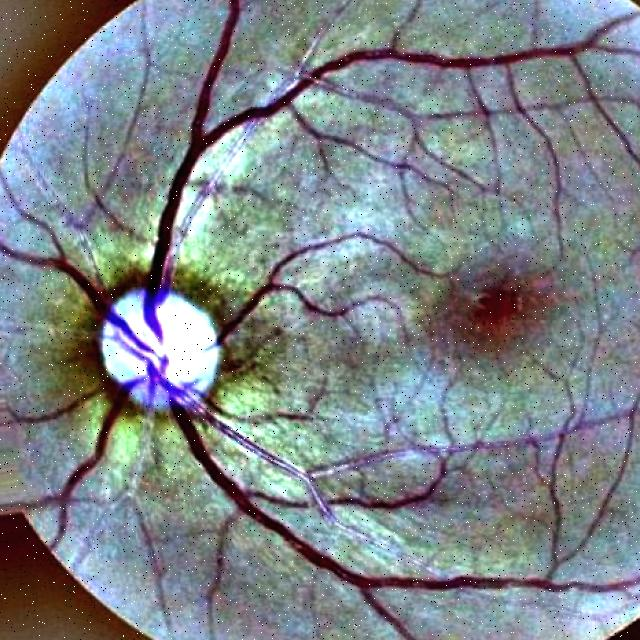Macula: (456, 279, 536, 335)
Nerves: (0, 0, 618, 591), (202, 240, 347, 350), (11, 387, 102, 424)
Optic Disk: (100, 287, 221, 412)
